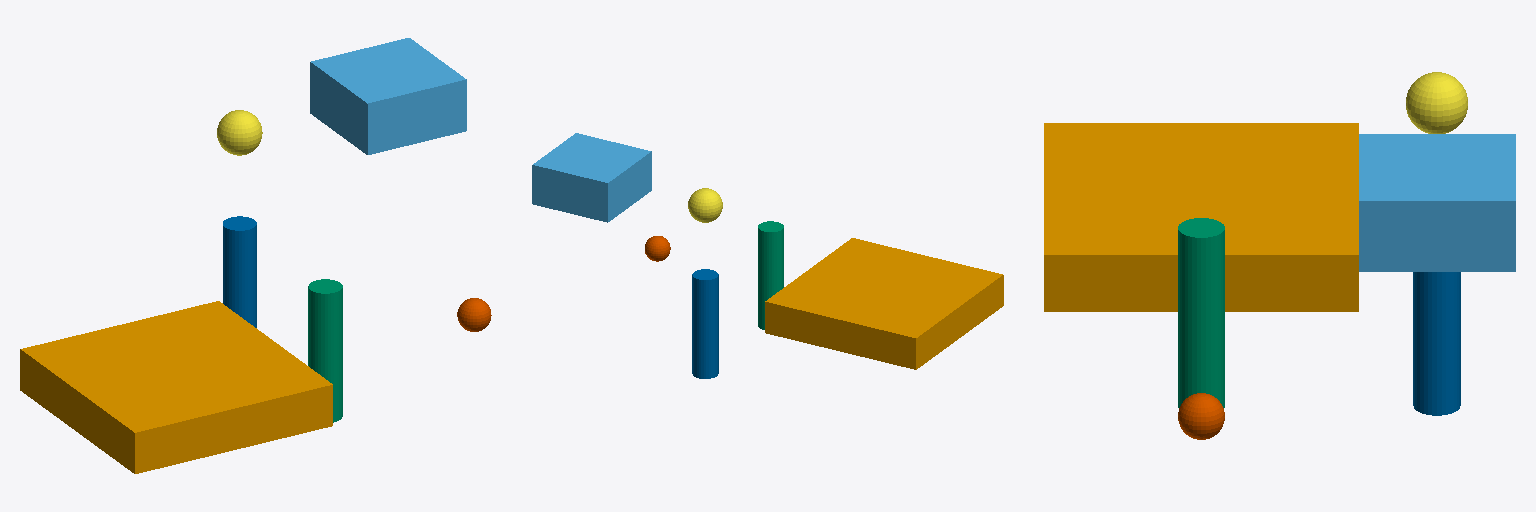
The robot description file, URDF, robot "로봇_매니퓰레이터":
<?xml version="1.0" ?>
<robot name="로봇_매니퓰레이터">
  <link name="base">
    <visual>
      <geometry>
        <box size="0.08 0.08 0.016"/>
      </geometry>
    </visual>
  </link>
  <link name="finger_pair">
    <visual>
      <geometry>
        <box size="0.04 0.04 0.02"/>
      </geometry>
    </visual>
  </link>
  <link name="first_link">
    <visual>
      <geometry>
        <cylinder radius="0.006" length="0.05"/>
      </geometry>
    </visual>
  </link>
  <link name="gripper">
    <visual>
      <geometry>
        <sphere radius="0.008"/>
      </geometry>
    </visual>
  </link>
  <link name="second_link">
    <visual>
      <geometry>
        <cylinder radius="0.006" length="0.05"/>
      </geometry>
    </visual>
  </link>
  <link name="sensor">
    <visual>
      <geometry>
        <sphere radius="0.006"/>
      </geometry>
    </visual>
  </link>
  <joint name="_attach_base_to_finger_pair" type="fixed">
    <parent link="base"/>
    <child link="finger_pair"/>
    <origin xyz="0.1200 0.0600 0.0600" rpy="0 0 0"/>
  </joint>
  <joint name="_attach_base_to_first_link" type="fixed">
    <parent link="base"/>
    <child link="first_link"/>
    <origin xyz="0.0600 0.0000 0.0000" rpy="0 0 0"/>
  </joint>
  <joint name="_attach_base_to_sensor" type="fixed">
    <parent link="base"/>
    <child link="sensor"/>
    <origin xyz="0.1200 0.0000 0.0000" rpy="0 0 0"/>
  </joint>
  <joint name="_attach_first_link_to_second_link" type="fixed">
    <parent link="first_link"/>
    <child link="second_link"/>
    <origin xyz="0.0000 0.0600 0.0000" rpy="0 0 0"/>
  </joint>
  <joint name="_attach_second_link_to_gripper" type="fixed">
    <parent link="second_link"/>
    <child link="gripper"/>
    <origin xyz="0.0000 0.0000 0.0600" rpy="0 0 0"/>
  </joint>
</robot>

--- Render facts (derived) ---
The picture shows the robot from 3 angles, left to right: view 1: azimuth 30°, elevation 25°; view 2: azimuth 150°, elevation 25°; view 3: azimuth 270°, elevation 25°; orthographic projection.
Robot: 로봇_매니퓰레이터 — 6 links, 5 joints (5 fixed); root link base; default pose: every joint at zero.
Links seen in each view (by area): view 1: base, finger_pair, first_link, second_link, gripper, sensor; view 2: base, finger_pair, second_link, first_link, gripper, sensor; view 3: base, finger_pair, first_link, second_link, gripper, sensor.
Link boxes in pixels (box(x1,y1,x2,y2)): base: box(20, 301, 332, 473); finger_pair: box(310, 38, 466, 154); first_link: box(308, 279, 342, 422); second_link: box(223, 216, 256, 327); gripper: box(217, 110, 262, 155); sensor: box(457, 298, 491, 331); base: box(765, 238, 1003, 369); finger_pair: box(532, 133, 651, 222); second_link: box(692, 269, 718, 378); first_link: box(758, 221, 783, 329); gripper: box(688, 188, 722, 222); sensor: box(645, 236, 670, 261); base: box(1044, 123, 1358, 311); finger_pair: box(1359, 134, 1515, 271); first_link: box(1178, 218, 1224, 407); second_link: box(1413, 272, 1460, 415); gripper: box(1406, 72, 1467, 133); sensor: box(1178, 393, 1224, 439).
Size in the robot's own frame: 0.18 by 0.12 by 0.095 metres.
Geometry: primitives only (box / cylinder / sphere), no mesh files.
